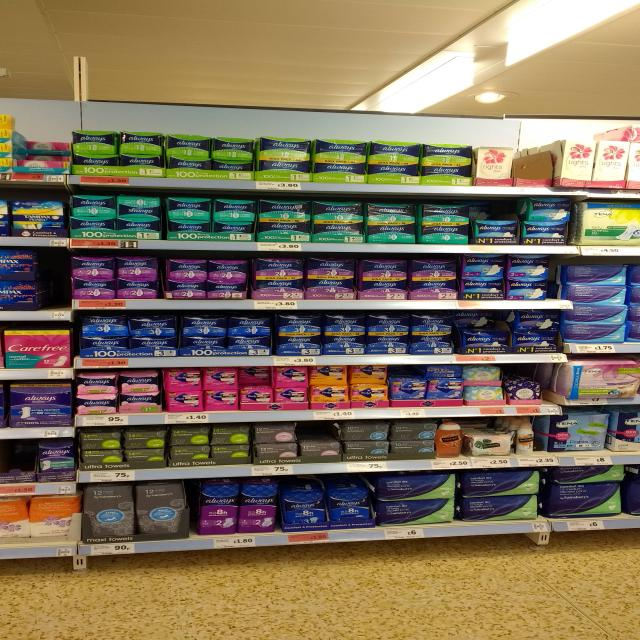unorganised: (25, 139, 71, 167), (456, 314, 510, 331), (471, 202, 514, 219), (238, 367, 272, 387)
